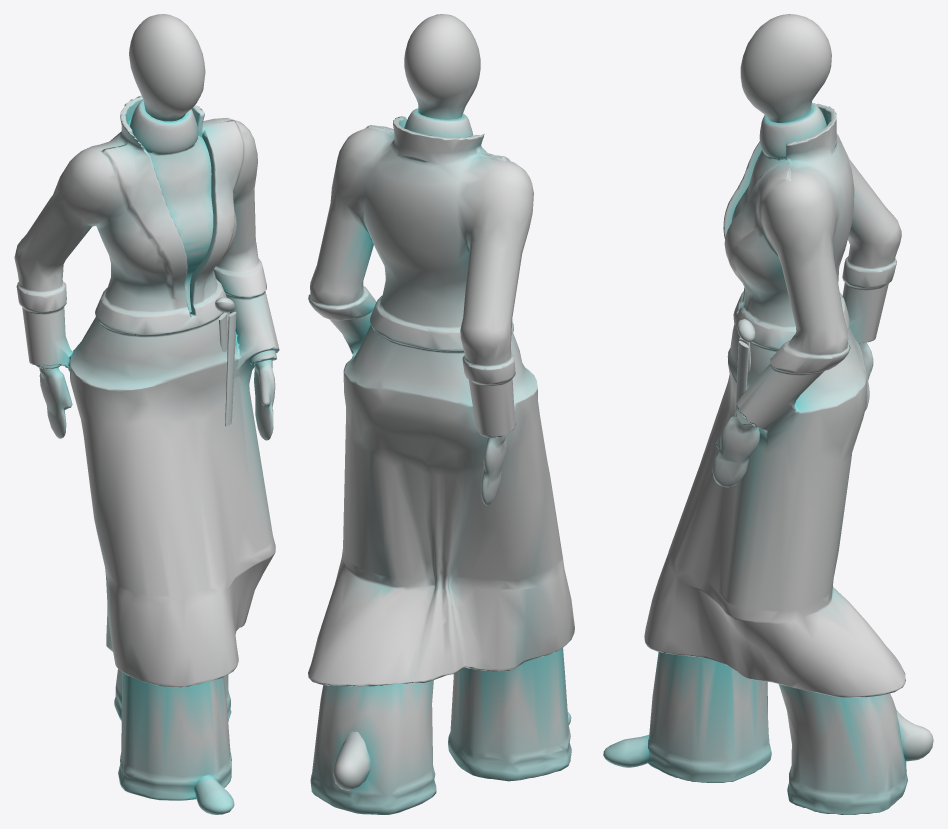
The model's file is mannequin-wrap.glb.
3 views of the same model, side by side, from view 1: azimuth 30°, elevation 25°; view 2: azimuth 150°, elevation 25°; view 3: azimuth 270°, elevation 25° (orthographic). The views are drawn at different scales.
Visible parts, largest first — view 1: coat, trousers, body, knit, knot; view 2: coat, trousers, body, knit; view 3: coat, trousers, body, knit, knot.
Part boxes in pixels (box(x1,y1,x2,y2)): coat: box(14, 95, 279, 687); trousers: box(114, 669, 231, 800); body: box(39, 14, 275, 814); knit: box(35, 99, 276, 369); knot: box(215, 297, 236, 426); coat: box(308, 116, 574, 686); trousers: box(310, 648, 571, 814); body: box(333, 14, 571, 790); knit: box(404, 108, 473, 137); coat: box(644, 103, 905, 697); trousers: box(647, 652, 907, 814); body: box(603, 14, 933, 767); knit: box(731, 102, 826, 425); knot: box(735, 319, 755, 415).
Size of the model in its own units: 0.5428 by 1.78 by 0.7.
